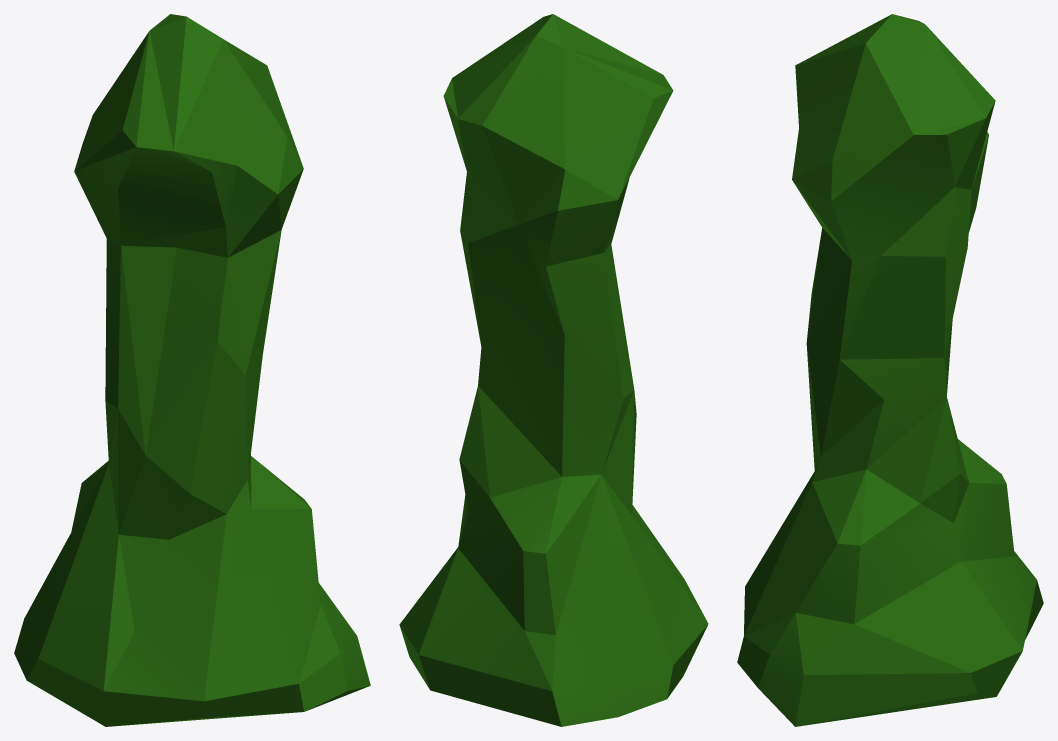
File: M_RockPillar_02.fbx
The picture shows the model from 3 angles, left to right: view 1: azimuth 30°, elevation 25°; view 2: azimuth 150°, elevation 25°; view 3: azimuth 270°, elevation 25°; orthographic projection. The views are drawn at different scales.
Visible parts, largest first — view 1: rockpillar_02; view 2: rockpillar_02; view 3: rockpillar_02.
Boxes of the visible parts, x1,y1,x2,y2 form: rockpillar_02: (14,14,370,726); rockpillar_02: (399,14,708,726); rockpillar_02: (737,14,1043,726).
Bounding box in the file's own units: 16.7 × 39 × 16.7.
